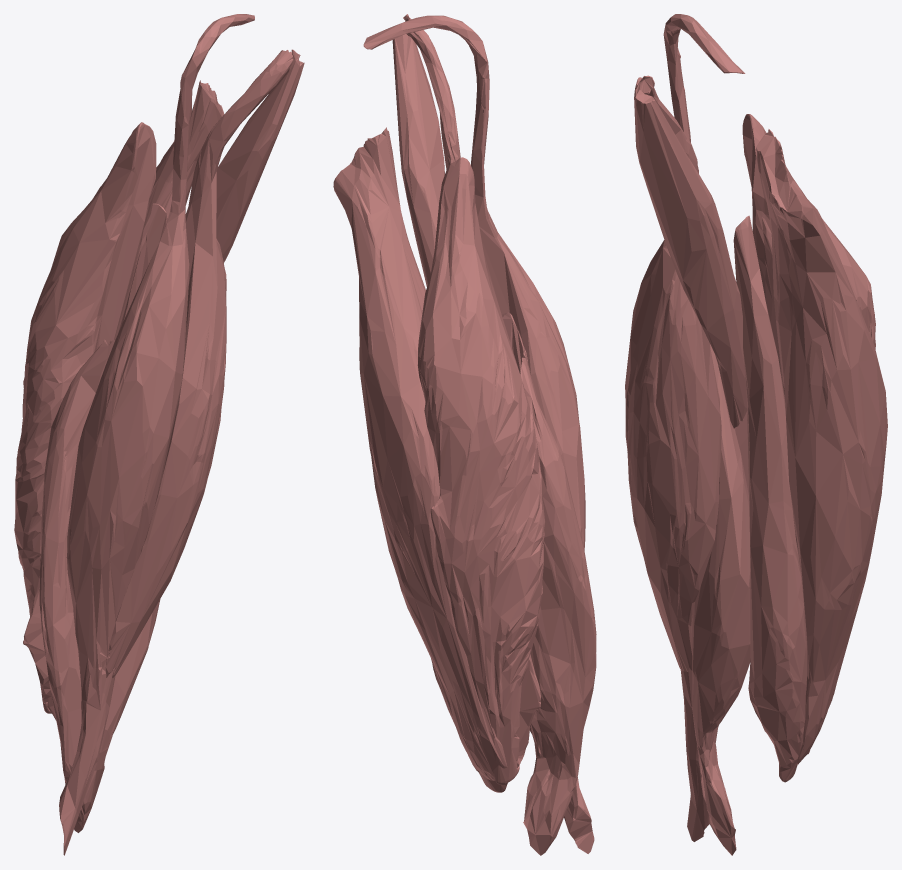
The model's file is arm-muscle.glb.
3 views of the same model, side by side, from view 1: azimuth 30°, elevation 25°; view 2: azimuth 150°, elevation 25°; view 3: azimuth 270°, elevation 25° (orthographic). The views are drawn at different scales.
Visible parts, largest first — view 1: biceps-brachii-long-head__BP5566, triceps-brachii-lateral-head__BP5550, biceps-brachii-short-head__BP5558, brachialis__BP4807, coracobrachialis__BP4805, triceps-brachii-long-head__BP5564, triceps-brachii-medial-head__BP5562; view 2: triceps-brachii-lateral-head__BP5550, triceps-brachii-long-head__BP5564, brachialis__BP4807, biceps-brachii-long-head__BP5566, coracobrachialis__BP4805, biceps-brachii-short-head__BP5558, triceps-brachii-medial-head__BP5562; view 3: triceps-brachii-long-head__BP5564, biceps-brachii-short-head__BP5558, triceps-brachii-medial-head__BP5562, brachialis__BP4807, coracobrachialis__BP4805, biceps-brachii-long-head__BP5566, triceps-brachii-lateral-head__BP5550.
Part boxes in pixels (x1,y1,x2,y2): biceps-brachii-long-head__BP5566: (59, 14, 254, 855); triceps-brachii-lateral-head__BP5550: (14, 122, 156, 713); biceps-brachii-short-head__BP5558: (105, 50, 293, 677); brachialis__BP4807: (39, 339, 160, 832); coracobrachialis__BP4805: (216, 49, 304, 262); triceps-brachii-long-head__BP5564: (49, 80, 224, 711); triceps-brachii-medial-head__BP5562: (23, 203, 167, 720); triceps-brachii-lateral-head__BP5550: (417, 157, 544, 784); triceps-brachii-long-head__BP5564: (333, 127, 507, 780); brachialis__BP4807: (502, 312, 596, 855); biceps-brachii-long-head__BP5566: (363, 15, 594, 853); coracobrachialis__BP4805: (392, 14, 444, 286); biceps-brachii-short-head__BP5558: (407, 17, 460, 169); triceps-brachii-medial-head__BP5562: (431, 654, 540, 792); triceps-brachii-long-head__BP5564: (756, 129, 887, 764); biceps-brachii-short-head__BP5558: (625, 75, 721, 671); triceps-brachii-medial-head__BP5562: (733, 215, 806, 782); brachialis__BP4807: (692, 344, 750, 855); coracobrachialis__BP4805: (634, 77, 747, 428); biceps-brachii-long-head__BP5566: (625, 14, 745, 841); triceps-brachii-lateral-head__BP5550: (742, 114, 875, 754).
Size of the model in its own units: 1.05 by 3.45 by 0.9053.
